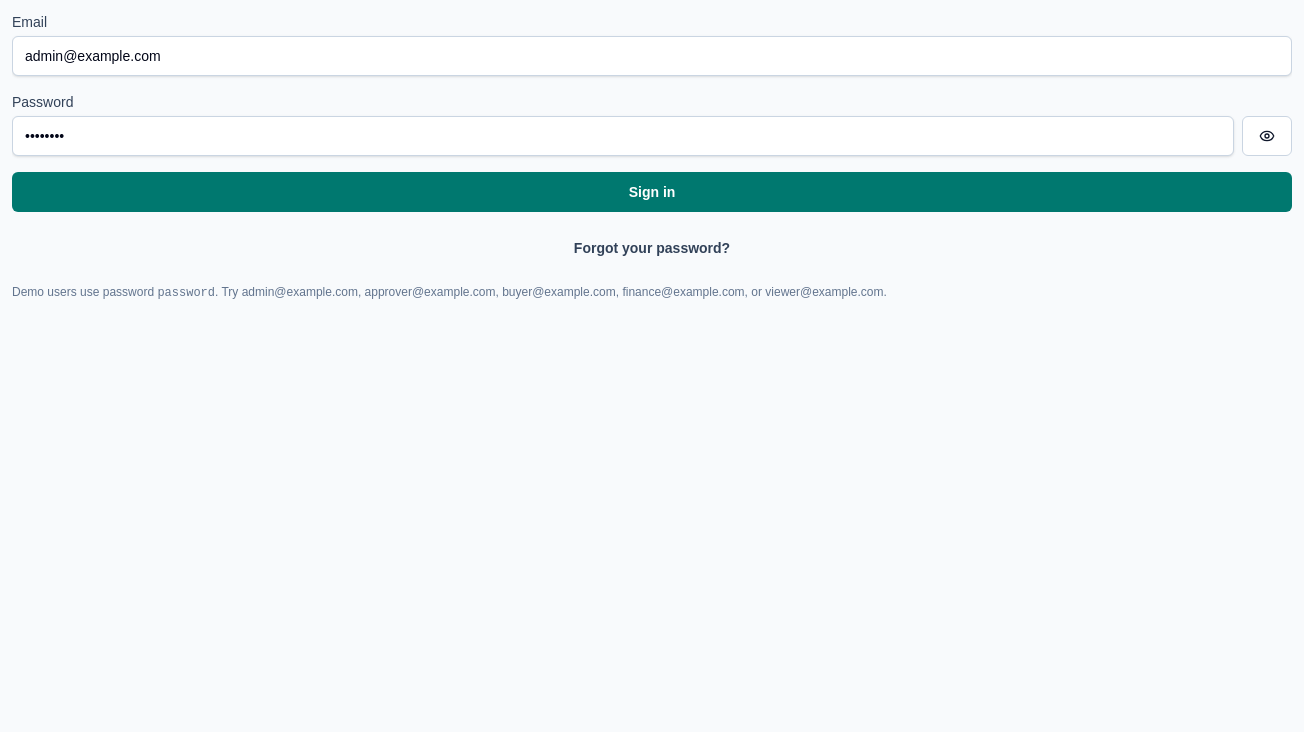
Test: LoginForm › requests a mock password reset
Step 1. Click the button "Forgot your password?" → (652, 248), box [12,228,1292,268]
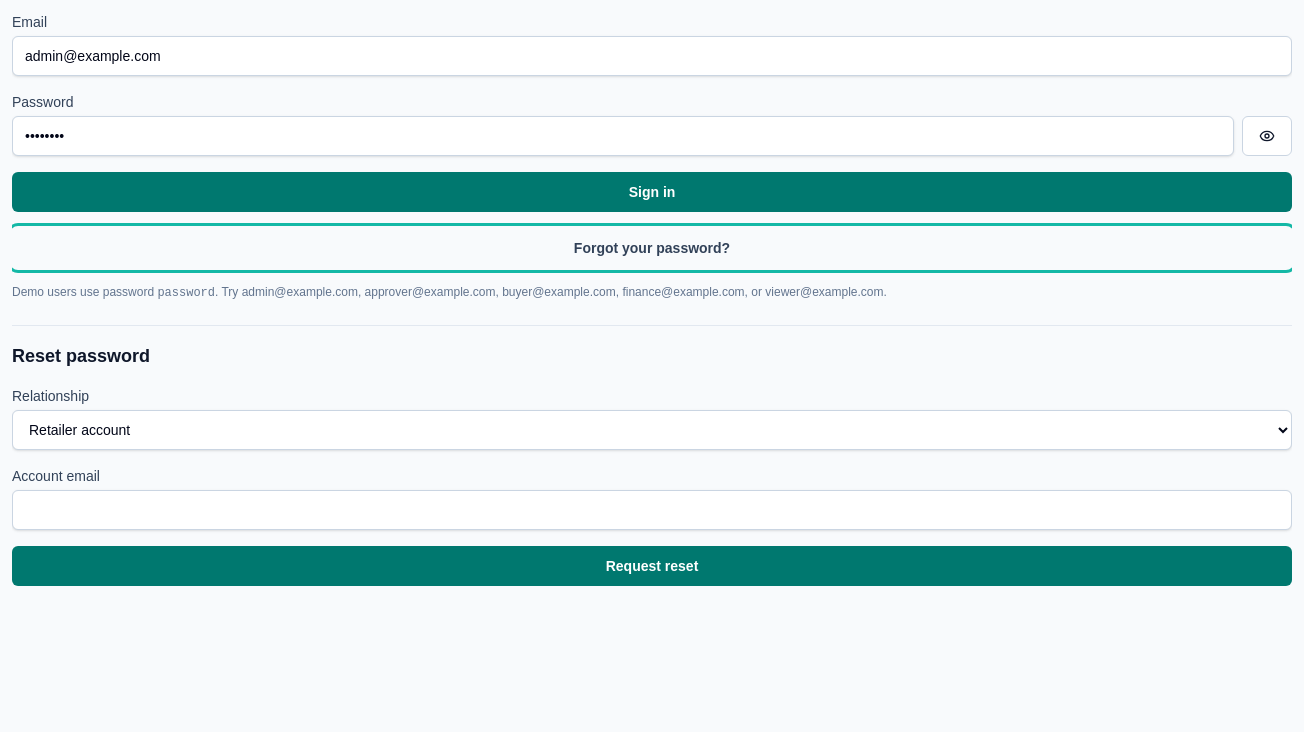
Step 2. Type "buyer@example.com" into the field labelled "Account email" → (652, 510), box [12,490,1292,530]
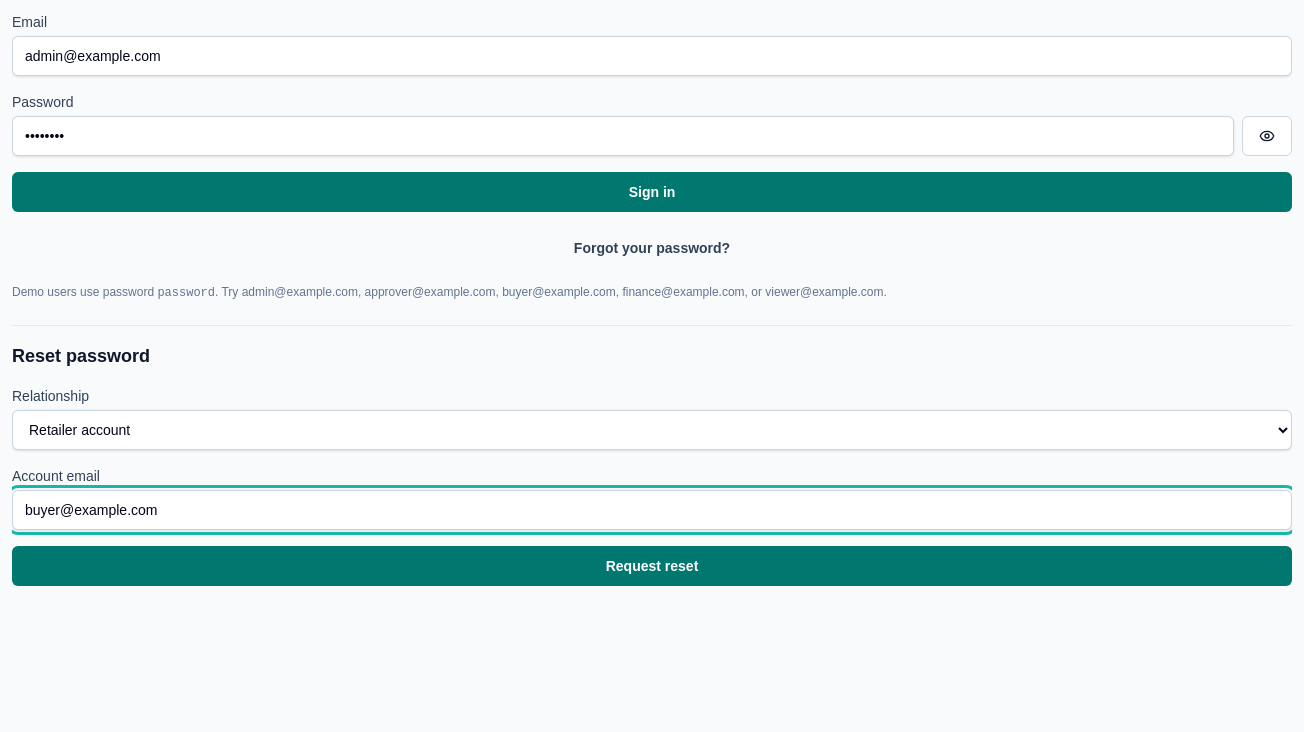
Step 3. Click the button "Request reset" → (652, 566), box [12,546,1292,586]
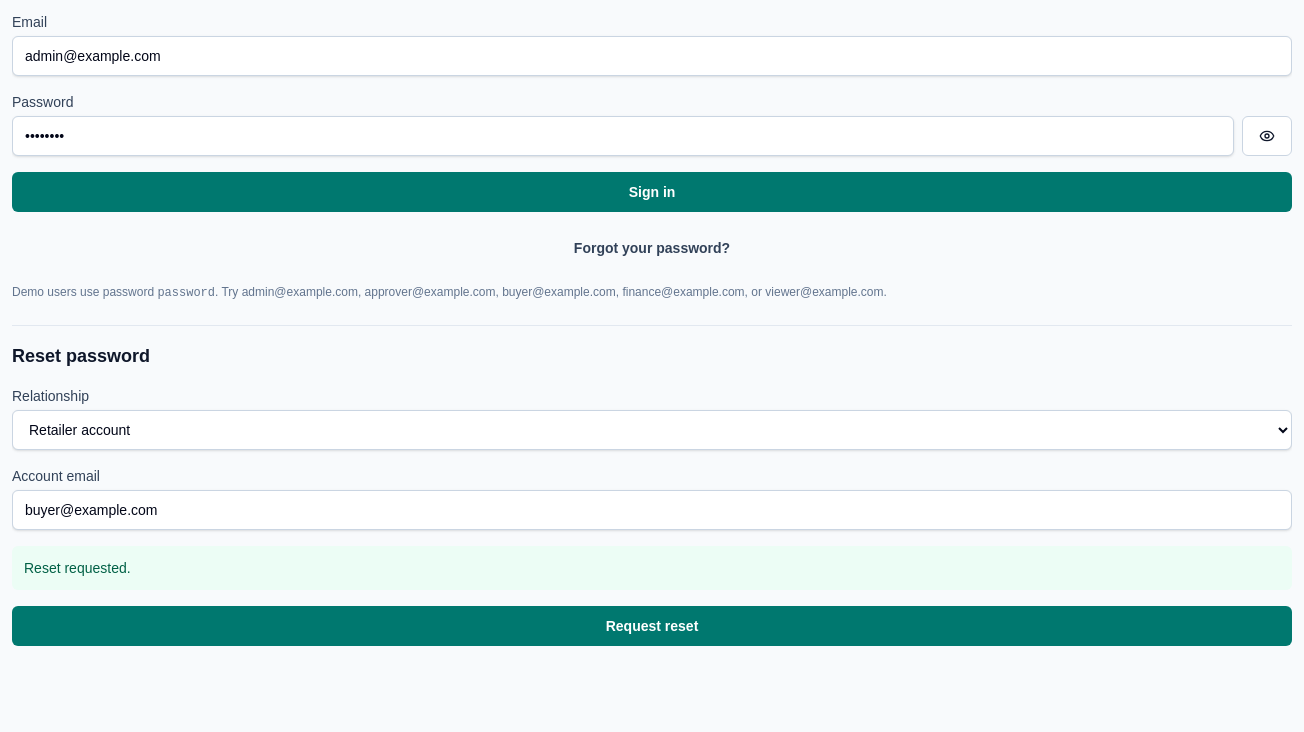
Result: the text "Reset requested." is shown at [12,546,1292,590]
